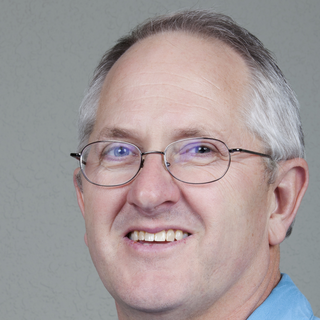eye: (174, 139, 223, 161), (97, 140, 138, 164)
